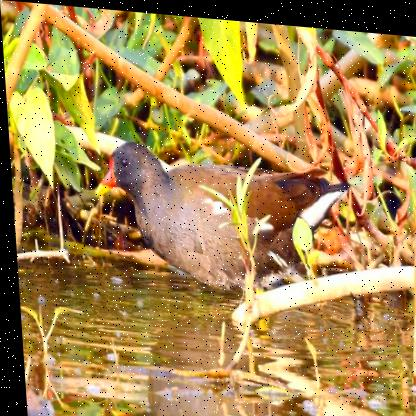Burung: (89, 137, 356, 318)
